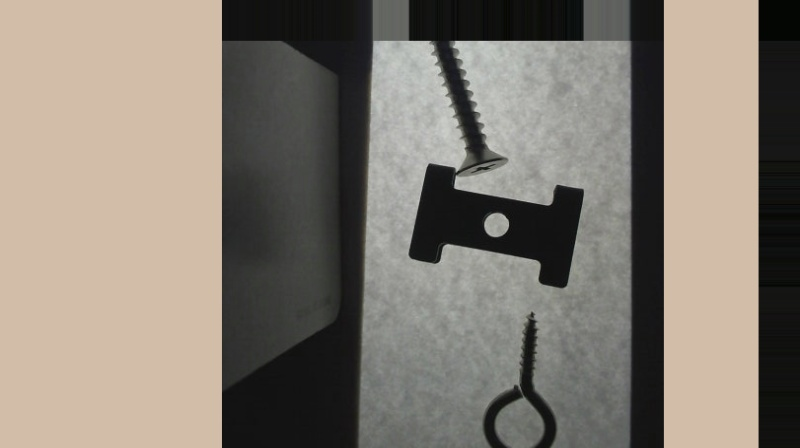O001: (483, 305, 559, 447)
O002: (407, 161, 584, 288)
S001: (430, 22, 509, 177)
